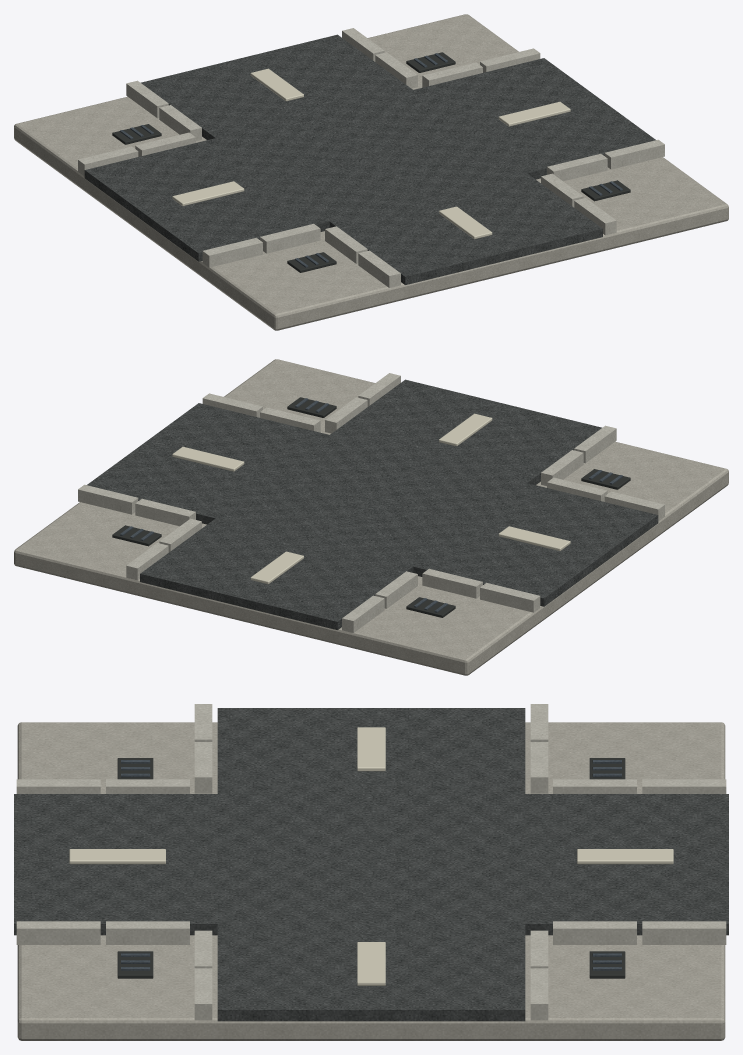
File: ROAD_LOCAL_1x1_CROSS.glb
3 views of the same model, one above another, from view 1: azimuth 30°, elevation 25°; view 2: azimuth 150°, elevation 25°; view 3: azimuth 270°, elevation 25° (orthographic). The views are drawn at different scales.
Visible parts, largest first — view 1: ROAD_LOCAL_1x1_CROSS_Visual; view 2: ROAD_LOCAL_1x1_CROSS_Visual; view 3: ROAD_LOCAL_1x1_CROSS_Visual.
Boxes of the visible parts, x1=… form: ROAD_LOCAL_1x1_CROSS_Visual: x1=14, y1=14, x2=728, y2=330; ROAD_LOCAL_1x1_CROSS_Visual: x1=14, y1=359, x2=728, y2=675; ROAD_LOCAL_1x1_CROSS_Visual: x1=14, y1=704, x2=728, y2=1040.
Size of what is drawn, in the model's own units: 2 by 0.12 by 2.
Materials: 6 (4 with a texture image).
